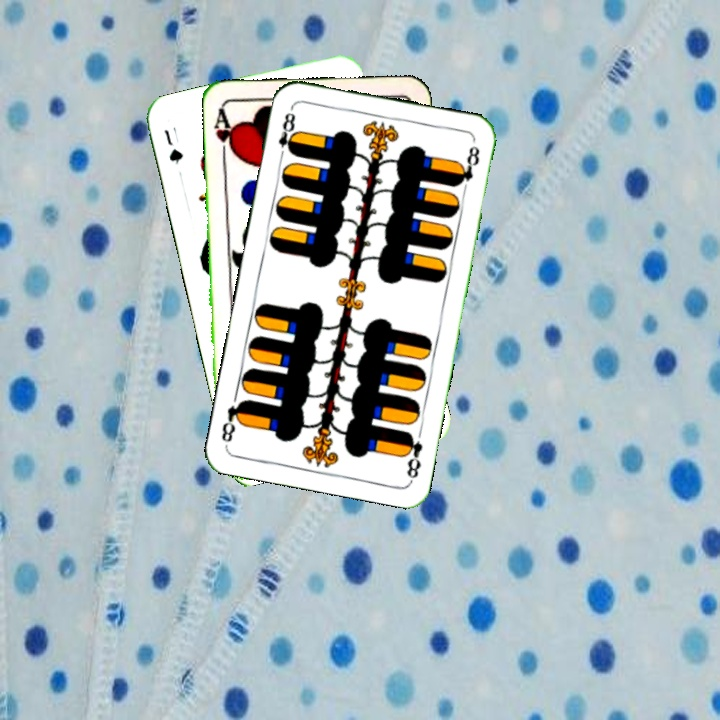E8: (274, 104, 300, 163), (400, 428, 426, 483)
GU: (160, 125, 186, 167)
HA: (210, 105, 238, 164)
